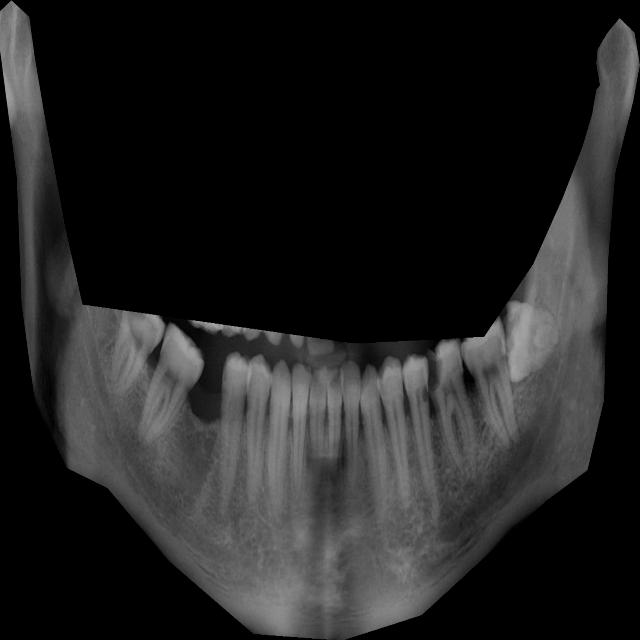mandibula: (0, 0, 640, 640)
